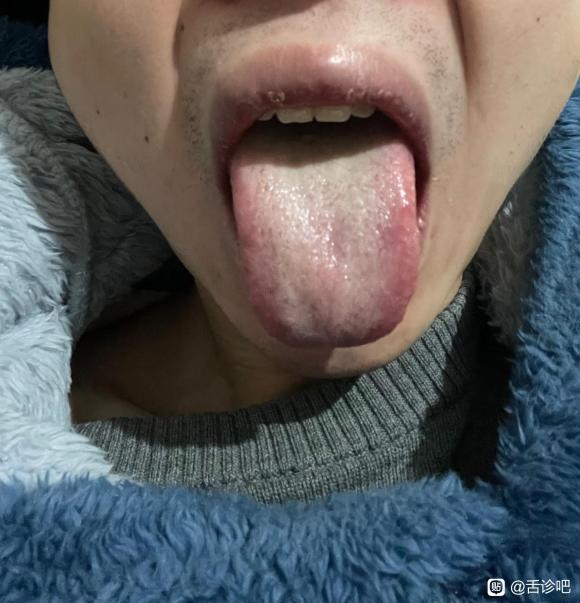huangtaishe: (229, 123, 417, 347)
